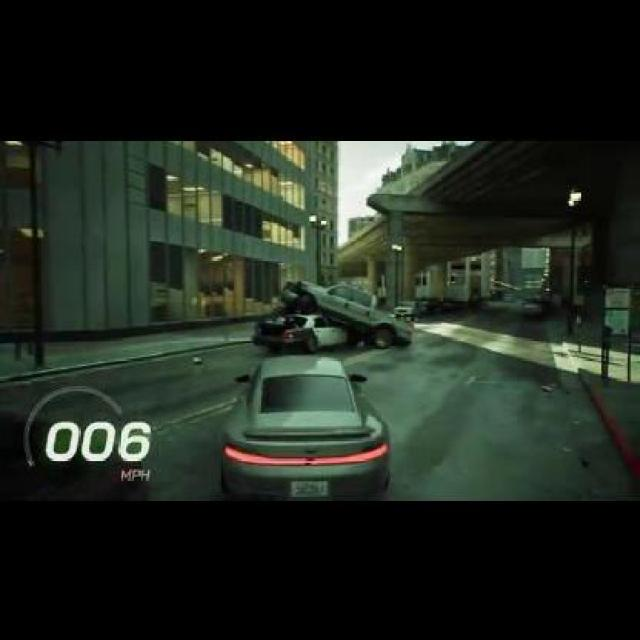accident: (247, 271, 416, 354)
